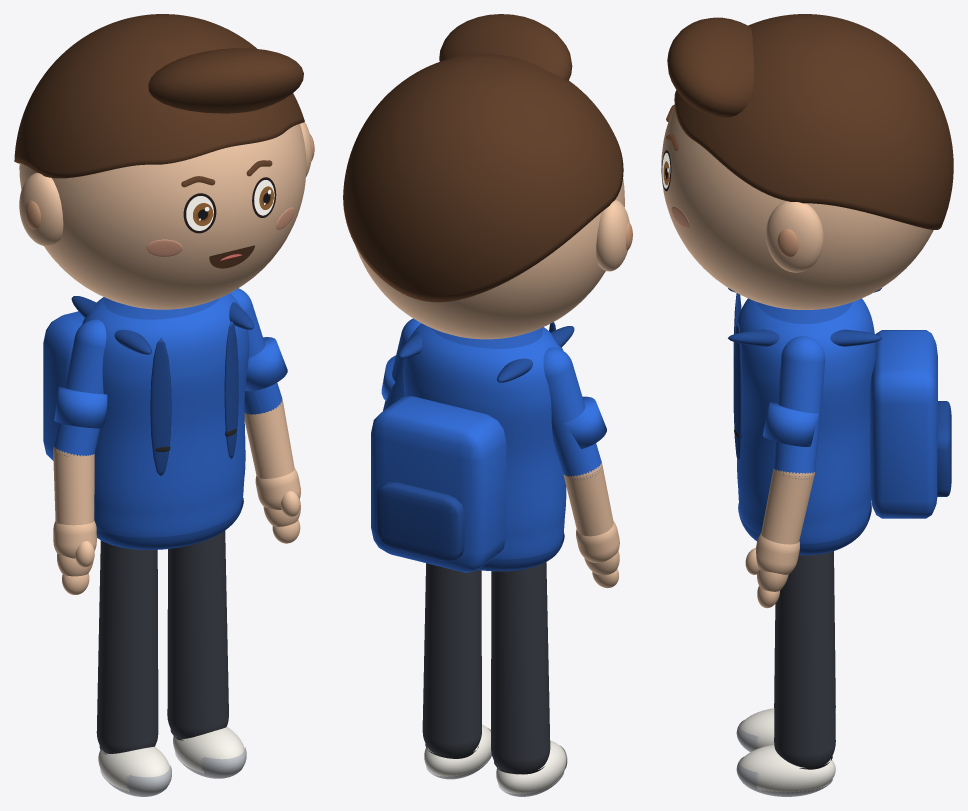
File: leerling_a.glb
3 views of the same model, side by side, from view 1: azimuth 30°, elevation 25°; view 2: azimuth 150°, elevation 25°; view 3: azimuth 270°, elevation 25° (orthographic). The views are drawn at different scales.
Parts seen in each view (by area): view 1: leerling_a_hoofd, leerling_a_romp, leerling_a_haar, leerling_a_been_R, leerling_a_been_L, leerling_a_haar_kuif, leerling_a_bovenarm_R, leerling_a_rugzak, leerling_a_onderarm_R, leerling_a_onderarm_L, leerling_a_rugzak_band_R, leerling_a_oor_R (+14 smaller); view 2: leerling_a_haar, leerling_a_romp, leerling_a_rugzak, leerling_a_been_R, leerling_a_hoofd, leerling_a_been_L, leerling_a_rugzak_vak, leerling_a_haar_kuif, leerling_a_bovenarm_R, leerling_a_onderarm_R, leerling_a_oor_R, leerling_a_schoen_R (+7 smaller); view 3: leerling_a_haar, leerling_a_hoofd, leerling_a_romp, leerling_a_rugzak, leerling_a_been_L, leerling_a_haar_kuif, leerling_a_bovenarm_L, leerling_a_oor_L, leerling_a_onderarm_L, leerling_a_schoen_L, leerling_a_mouwzoom_L, leerling_a_rugzak_vak (+7 smaller).
Boxes of the visible parts, x1=… form: leerling_a_hoofd: x1=19, y1=123, x2=306, y2=309; leerling_a_romp: x1=82, y1=293, x2=249, y2=537; leerling_a_haar: x1=14, y1=14, x2=304, y2=178; leerling_a_been_R: x1=96, y1=540, x2=158, y2=753; leerling_a_been_L: x1=167, y1=530, x2=228, y2=738; leerling_a_haar_kuif: x1=148, y1=48, x2=303, y2=113; leerling_a_bovenarm_R: x1=53, y1=319, x2=106, y2=456; leerling_a_rugzak: x1=43, y1=311, x2=84, y2=460; leerling_a_onderarm_R: x1=53, y1=449, x2=94, y2=525; leerling_a_onderarm_L: x1=244, y1=402, x2=294, y2=478; leerling_a_rugzak_band_R: x1=150, y1=338, x2=171, y2=476; leerling_a_oor_R: x1=19, y1=173, x2=63, y2=246; leerling_a_haar: x1=343, y1=53, x2=623, y2=302; leerling_a_romp: x1=403, y1=323, x2=566, y2=559; leerling_a_rugzak: x1=371, y1=396, x2=506, y2=572; leerling_a_been_R: x1=491, y1=562, x2=550, y2=772; leerling_a_hoofd: x1=355, y1=178, x2=624, y2=339; leerling_a_been_L: x1=422, y1=563, x2=481, y2=756; leerling_a_rugzak_vak: x1=376, y1=482, x2=464, y2=561; leerling_a_haar_kuif: x1=439, y1=14, x2=572, y2=80; leerling_a_bovenarm_R: x1=543, y1=347, x2=601, y2=479; leerling_a_onderarm_R: x1=563, y1=466, x2=613, y2=536; leerling_a_oor_R: x1=596, y1=199, x2=629, y2=271; leerling_a_schoen_R: x1=496, y1=740, x2=566, y2=794; leerling_a_haar: x1=674, y1=14, x2=953, y2=229; leerling_a_hoofd: x1=661, y1=106, x2=933, y2=309; leerling_a_romp: x1=734, y1=298, x2=875, y2=544; leerling_a_rugzak: x1=870, y1=330, x2=937, y2=518; leerling_a_been_L: x1=774, y1=551, x2=835, y2=767; leerling_a_haar_kuif: x1=667, y1=17, x2=754, y2=117; leerling_a_bovenarm_L: x1=773, y1=336, x2=825, y2=479; leerling_a_oor_L: x1=766, y1=201, x2=823, y2=272; leerling_a_onderarm_L: x1=761, y1=468, x2=814, y2=544; leerling_a_schoen_L: x1=739, y1=744, x2=835, y2=792; leerling_a_mouwzoom_L: x1=763, y1=401, x2=818, y2=446; leerling_a_rugzak_vak: x1=937, y1=401, x2=951, y2=496.
Size of the model in its own units: 0.6542 by 1.65 by 0.58.
